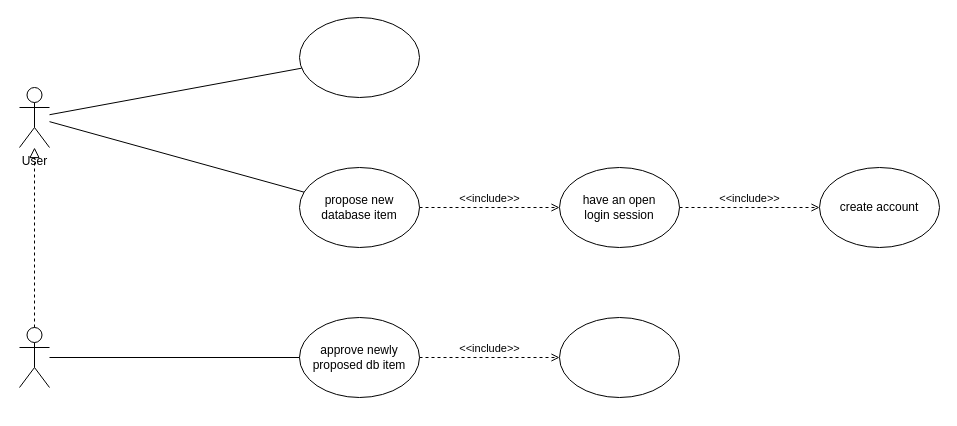
Some shapes in this 957 by 426 pixel diagram are drawn without their labels. Each missing label, with the centre of its shape:
Admin: point (34, 357)
manage database: point (619, 357)
take quiz: point (359, 57)
